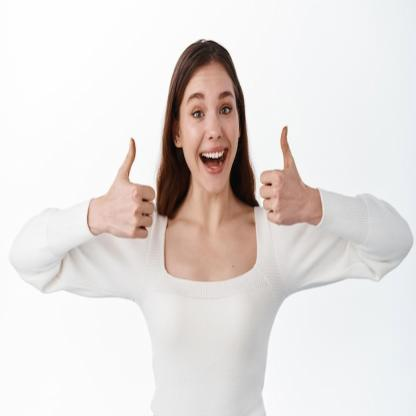thumb_up: (90, 131, 156, 240), (257, 116, 310, 224)
